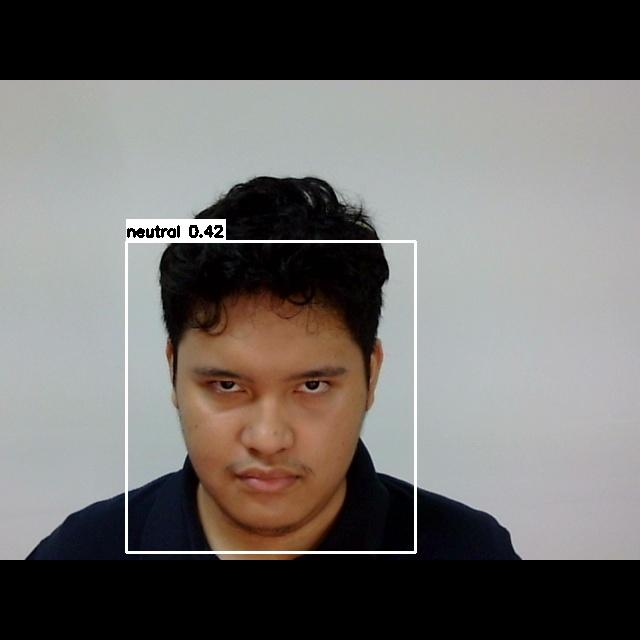Angry: (167, 339, 361, 523)
